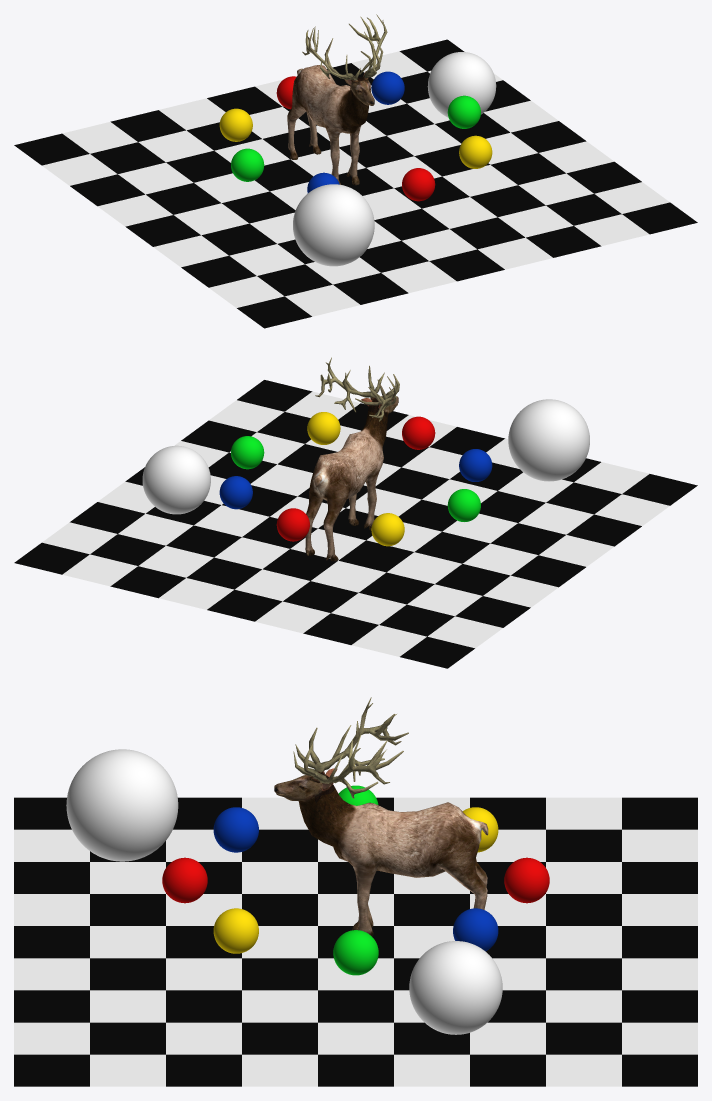
File: deer_plus_reflection_scene.gltf
3 views of the same model, one above another, from view 1: azimuth 30°, elevation 25°; view 2: azimuth 150°, elevation 25°; view 3: azimuth 270°, elevation 25° (orthographic). The views are drawn at different scales.
Visible parts, largest first — view 1: Plane_001_001, Body, Sphere_008, Sphere_009, Sphere_006, Sphere_004, Sphere_003, Sphere_005, Sphere, Sphere_002; view 2: Plane_001_001, Body, Sphere_008, Sphere_009, Sphere_005, Sphere_001, Sphere_004, Sphere_006, Sphere, Sphere_007, Sphere_002, Sphere_003; view 3: Plane_001_001, Body, Sphere_008, Sphere_009, Sphere_002, Sphere_004, Sphere_007, Sphere, Sphere_001, Sphere_006, Sphere_005.
Boxes of the visible parts, bbox=[...] form: Plane_001_001: bbox=[14, 39, 697, 328]; Body: bbox=[287, 14, 387, 185]; Sphere_008: bbox=[293, 184, 374, 266]; Sphere_009: bbox=[427, 52, 496, 117]; Sphere_006: bbox=[371, 71, 404, 104]; Sphere_004: bbox=[459, 135, 492, 168]; Sphere_003: bbox=[231, 148, 264, 181]; Sphere_005: bbox=[219, 108, 252, 141]; Sphere: bbox=[402, 168, 435, 201]; Sphere_002: bbox=[447, 95, 480, 128]; Plane_001_001: bbox=[14, 380, 697, 668]; Body: bbox=[305, 357, 399, 561]; Sphere_008: bbox=[508, 399, 589, 481]; Sphere_009: bbox=[142, 445, 210, 514]; Sphere_005: bbox=[371, 513, 404, 546]; Sphere_001: bbox=[276, 508, 309, 541]; Sphere_004: bbox=[307, 412, 340, 444]; Sphere_006: bbox=[219, 476, 252, 509]; Sphere: bbox=[402, 416, 435, 449]; Sphere_007: bbox=[459, 449, 492, 481]; Sphere_002: bbox=[231, 436, 264, 469]; Sphere_003: bbox=[447, 489, 480, 521]; Plane_001_001: bbox=[14, 797, 697, 1086]; Body: bbox=[274, 697, 488, 935]; Sphere_008: bbox=[66, 749, 178, 861]; Sphere_009: bbox=[409, 941, 502, 1034]; Sphere_002: bbox=[333, 930, 378, 975]; Sphere_004: bbox=[213, 908, 258, 953]; Sphere_007: bbox=[213, 807, 258, 852]; Sphere: bbox=[162, 857, 207, 903]; Sphere_001: bbox=[504, 857, 549, 903]; Sphere_006: bbox=[453, 908, 498, 951]; Sphere_005: bbox=[463, 807, 498, 852].
Bounding box in the file's own units: 7.5 × 2.71 × 7.5.
8 materials, 1 textured.
